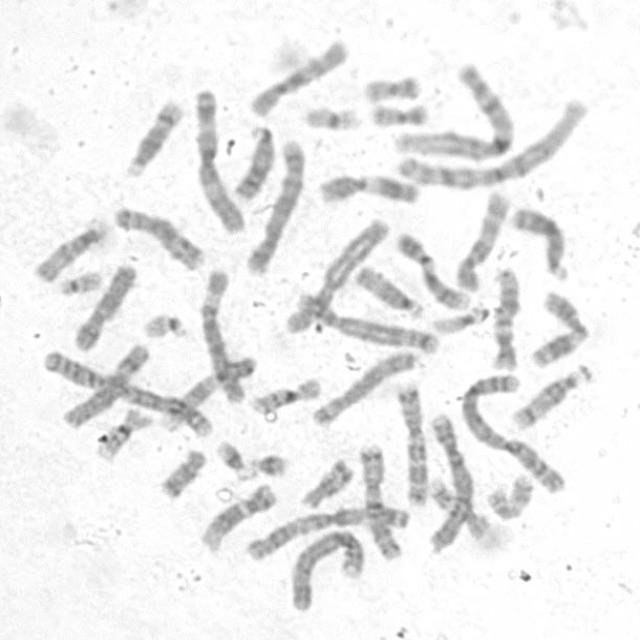A1: (392, 92, 588, 192), (387, 59, 516, 161)
A2: (38, 346, 215, 439), (455, 369, 569, 495)
A3: (245, 501, 414, 564), (188, 84, 248, 234)
B4: (424, 409, 476, 552), (286, 523, 368, 613)
B5: (292, 288, 442, 356), (240, 132, 306, 277)
C10: (245, 34, 352, 119), (450, 185, 513, 293)
C11: (526, 286, 592, 370), (314, 168, 424, 206)
C12: (196, 478, 279, 553), (487, 264, 522, 372)
C6: (282, 213, 392, 335), (196, 263, 250, 405)
C7: (355, 436, 405, 562), (392, 375, 431, 508)
C8: (306, 345, 420, 428), (109, 201, 208, 272)
C9: (156, 350, 259, 433), (392, 226, 473, 312)
D13: (507, 202, 571, 282), (229, 120, 277, 202)
D14: (507, 360, 596, 432), (120, 94, 184, 179)
D15: (28, 214, 109, 284), (350, 260, 427, 320)
E16: (92, 404, 152, 462), (246, 372, 324, 414)
E17: (425, 472, 492, 540), (482, 468, 536, 521)
E18: (294, 454, 356, 510), (154, 442, 209, 500)
F19: (429, 298, 491, 336), (299, 100, 363, 132)
F20: (359, 70, 424, 104), (366, 98, 431, 128)
G21: (211, 435, 256, 482), (247, 448, 290, 478)
G22: (137, 307, 192, 340), (52, 264, 105, 296)
X: (58, 338, 150, 431), (69, 258, 140, 352)
